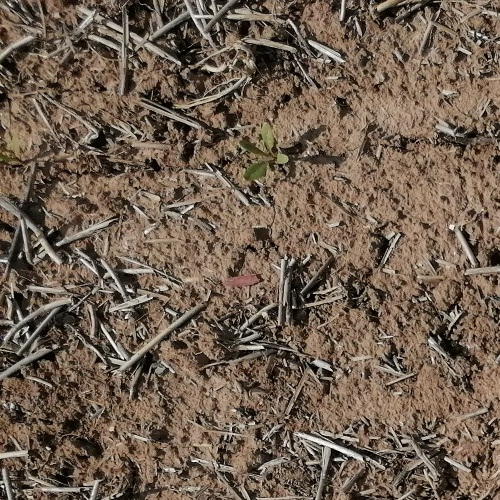beet: (239, 122, 290, 183)
